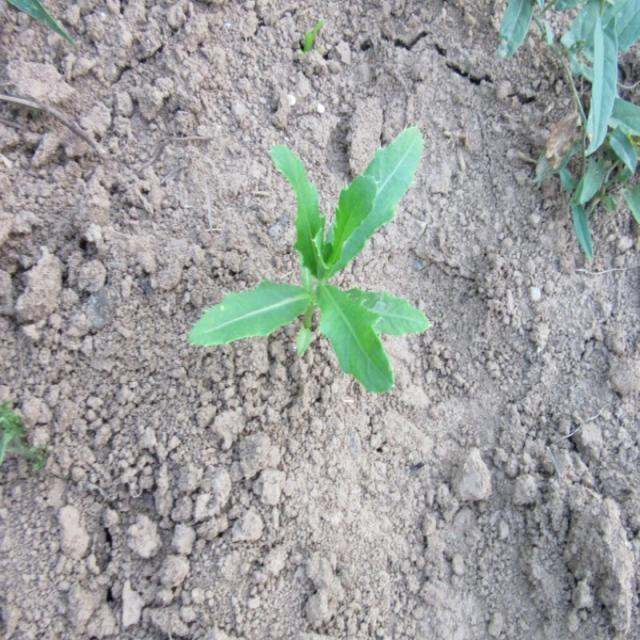cs: (188, 118, 434, 401)
